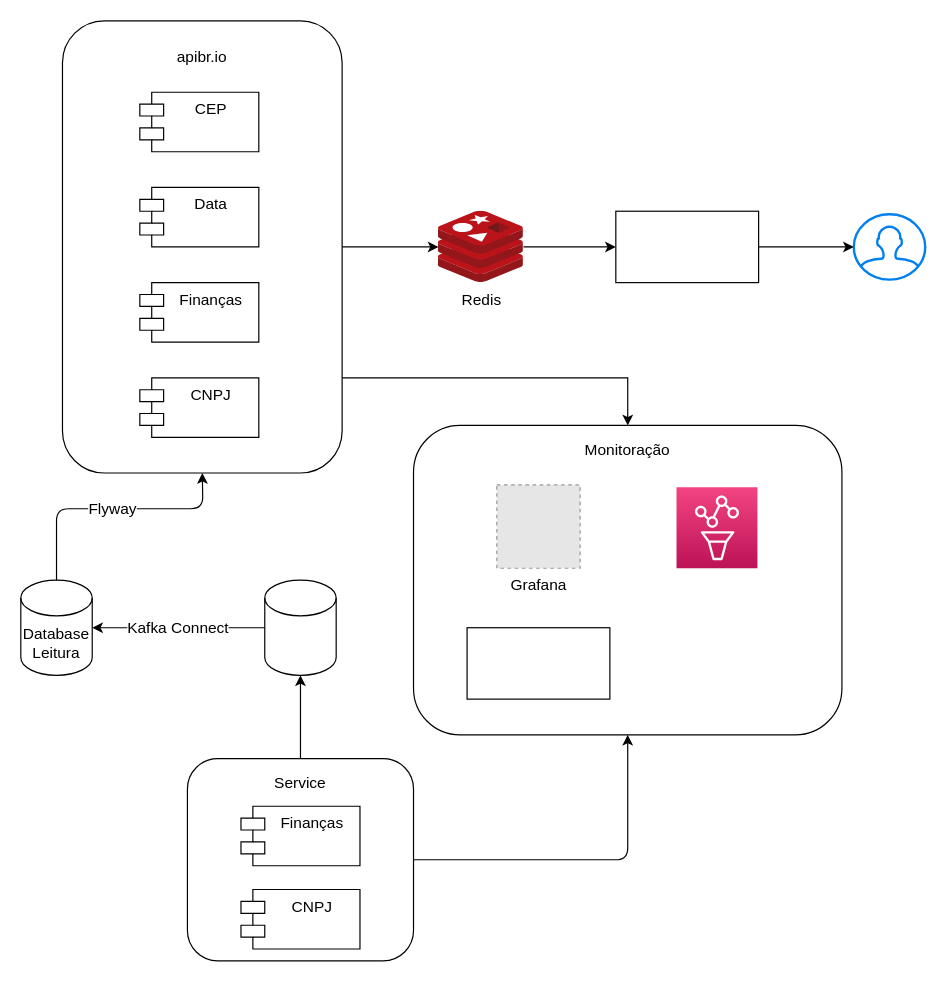
This 947x982 diagram has some shape labels left out. Grey dashed boxes stand in for pictures. Here are the shapes that lost their labels. From the top down, the centre of each, then its label:
the point at 687,246: API Gateway
the point at 716,527: Prometheus
the point at 300,627: Database Escrita
the point at 538,663: Splunk Logs
